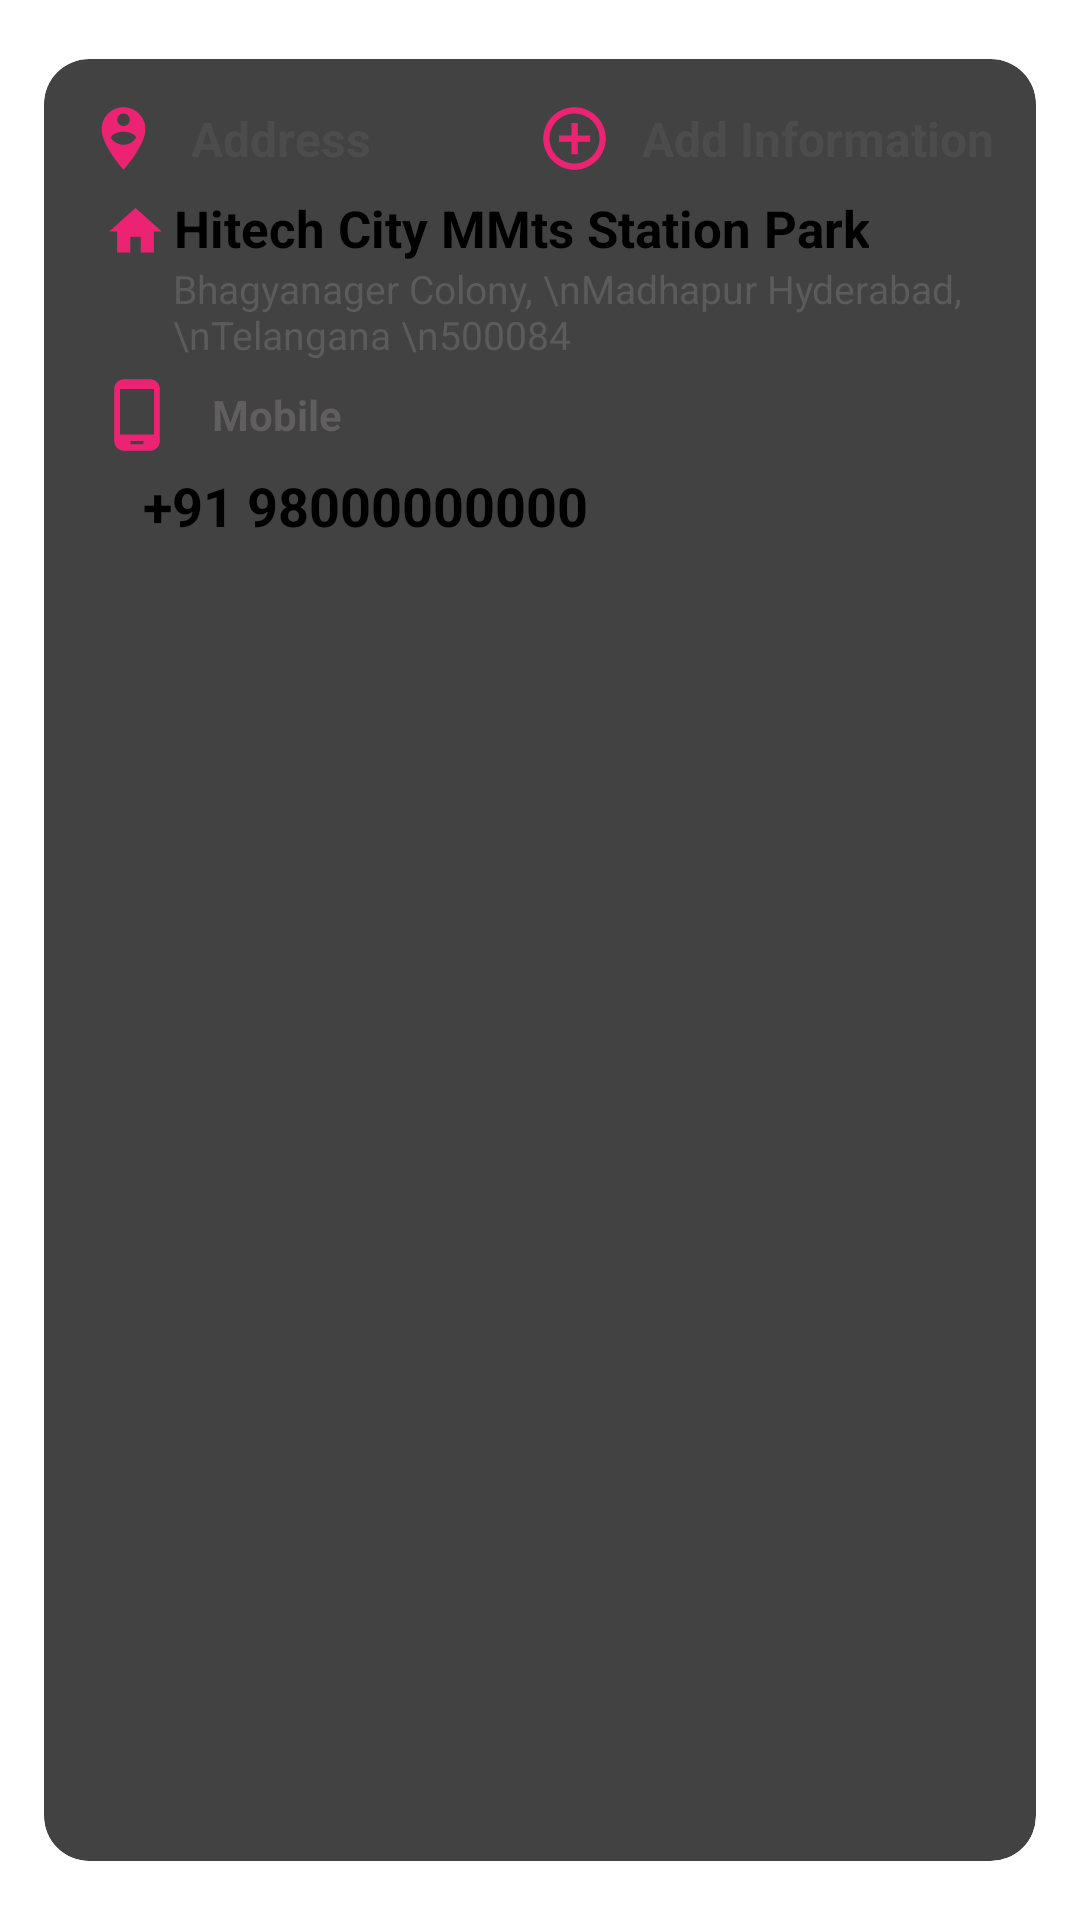

Icons on this 1080px x 1920px Android screen, each with its box as [left=x1, top=y1, right=x2, bottom=y2]:
home: [left=109, top=208, right=162, bottom=253]
person: [left=101, top=107, right=146, bottom=170]
phone: [left=114, top=379, right=160, bottom=451]
